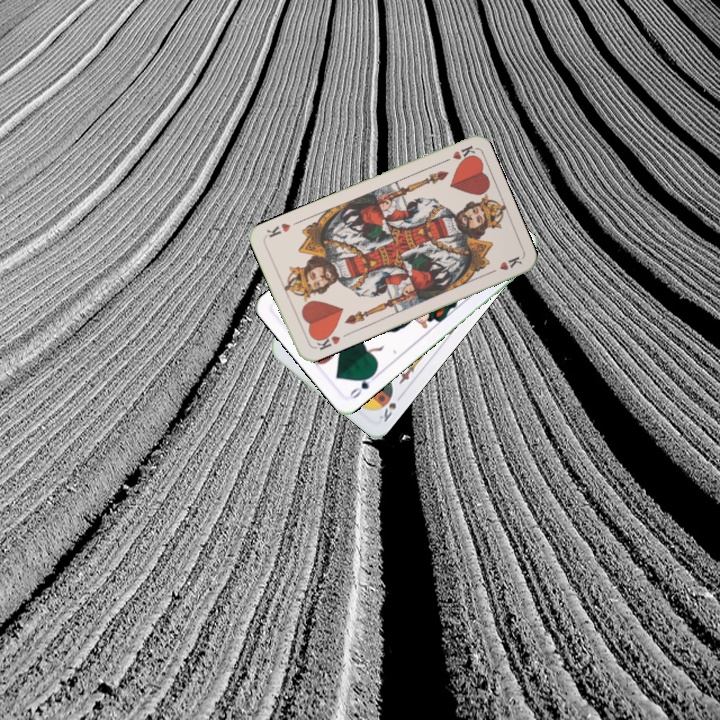GO: (345, 369, 380, 401)
HK: (437, 141, 477, 166), (310, 328, 343, 353)
SK: (375, 390, 406, 425)
